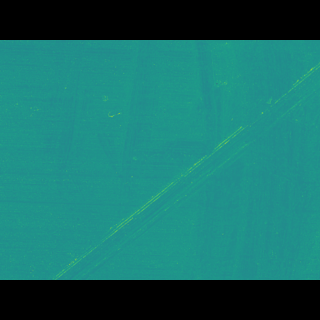Loch: (48, 87, 320, 250), (186, 68, 320, 250), (38, 69, 95, 164), (126, 67, 160, 206)
